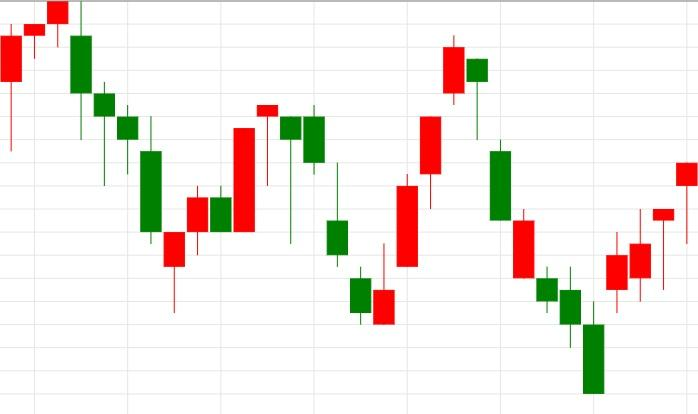hanging_man_fall: (372, 35, 489, 325), (163, 105, 302, 314), (582, 163, 698, 394)
three_white_soldiers_rise: (302, 104, 442, 325)
